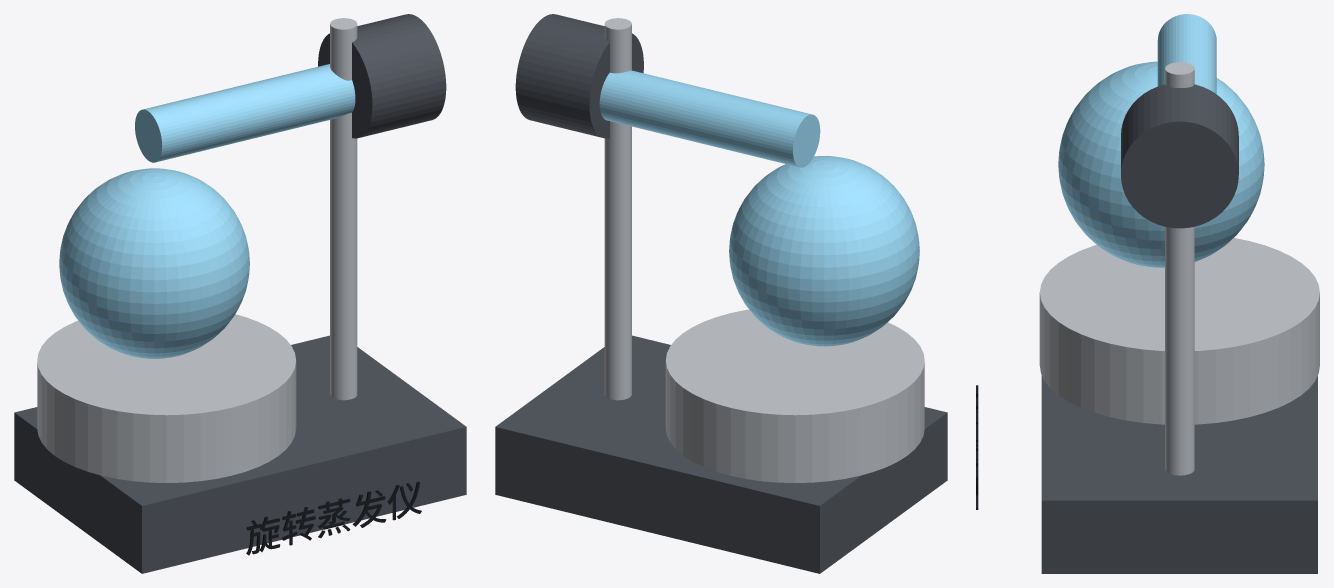
Rendered from asset_evaporator.glb.
3 views of the same model, side by side, from view 1: azimuth 30°, elevation 25°; view 2: azimuth 150°, elevation 25°; view 3: azimuth 270°, elevation 25° (orthographic). The views are drawn at different scales.
Parts seen in each view (by area): view 1: heating_base, water_bath, round_flask, condenser, motor_head, stand, asset_label; view 2: heating_base, water_bath, round_flask, condenser, motor_head, stand; view 3: heating_base, water_bath, round_flask, motor_head, stand, condenser.
Boxes of the visible parts, <box> form: heating_base: <box>14,335,466,573</box>; water_bath: <box>37,314,296,482</box>; round_flask: <box>59,168,249,358</box>; condenser: <box>135,64,355,162</box>; motor_head: <box>318,14,446,138</box>; stand: <box>330,18,357,400</box>; asset_label: <box>246,481,421,555</box>; heating_base: <box>495,335,947,573</box>; water_bath: <box>665,309,924,482</box>; round_flask: <box>729,156,919,346</box>; condenser: <box>599,70,820,167</box>; motor_head: <box>515,14,643,138</box>; stand: <box>604,18,631,400</box>; heating_base: <box>1041,375,1317,573</box>; water_bath: <box>1039,238,1319,424</box>; round_flask: <box>1058,61,1264,267</box>; motor_head: <box>1121,84,1238,228</box>; stand: <box>1165,62,1194,475</box>; condenser: <box>1157,14,1216,93</box>.
Bounding box in the file's own units: 1.23 × 1.42 × 0.933.
